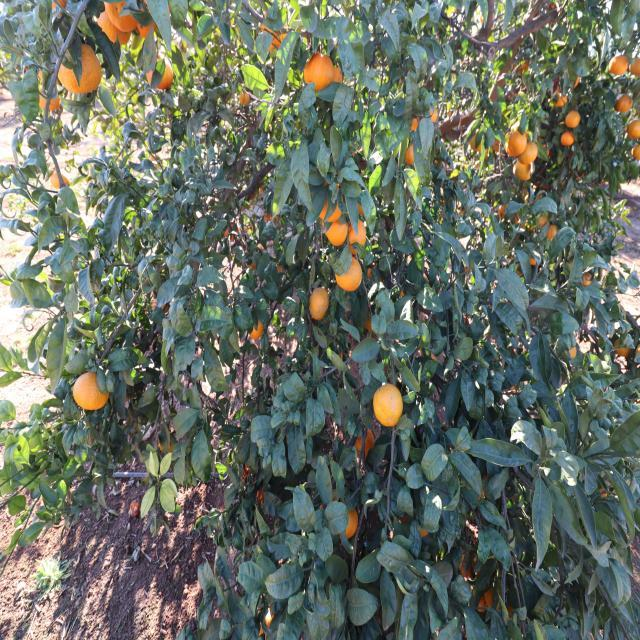Jeruk Sudah Matang: (58, 36, 104, 95), (67, 361, 116, 416), (374, 375, 408, 430), (141, 48, 177, 94), (609, 316, 640, 368), (94, 10, 138, 46), (302, 47, 334, 96), (334, 498, 366, 544), (254, 13, 286, 58), (104, 0, 142, 37), (132, 0, 168, 39), (147, 270, 177, 316), (334, 254, 365, 298), (460, 544, 492, 584), (352, 419, 378, 464), (152, 422, 182, 460), (569, 253, 599, 291), (307, 280, 332, 324), (314, 190, 346, 224), (503, 118, 530, 158), (323, 52, 351, 90), (318, 218, 351, 250), (346, 218, 376, 252), (622, 30, 640, 83), (556, 329, 582, 365), (345, 188, 373, 220), (506, 158, 540, 184), (412, 512, 435, 550), (44, 171, 74, 199), (608, 45, 630, 83), (464, 124, 486, 162), (323, 159, 344, 193), (242, 304, 264, 336), (32, 63, 59, 89), (43, 0, 78, 20), (35, 87, 58, 117), (562, 105, 586, 133), (519, 136, 543, 164), (542, 217, 565, 246), (231, 78, 252, 109), (427, 91, 445, 127), (480, 130, 504, 156), (363, 310, 386, 336), (615, 90, 637, 116), (403, 140, 422, 170), (524, 246, 545, 272), (242, 253, 261, 280), (367, 264, 387, 288), (262, 208, 284, 229), (217, 216, 236, 240), (274, 260, 292, 284), (554, 82, 570, 108), (557, 132, 579, 150), (533, 204, 550, 227), (496, 197, 512, 220), (568, 63, 582, 88), (408, 114, 424, 134), (628, 112, 640, 138), (629, 138, 640, 166), (448, 258, 466, 274), (254, 180, 264, 198)
